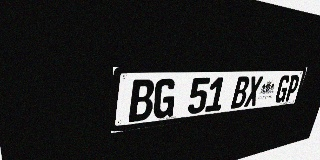1: (205, 77, 227, 112)
5: (187, 78, 210, 115)
B: (128, 79, 155, 122), (230, 76, 251, 109)
G: (152, 78, 177, 119), (274, 75, 291, 103)
P: (284, 75, 301, 102)
X: (244, 76, 263, 107)
